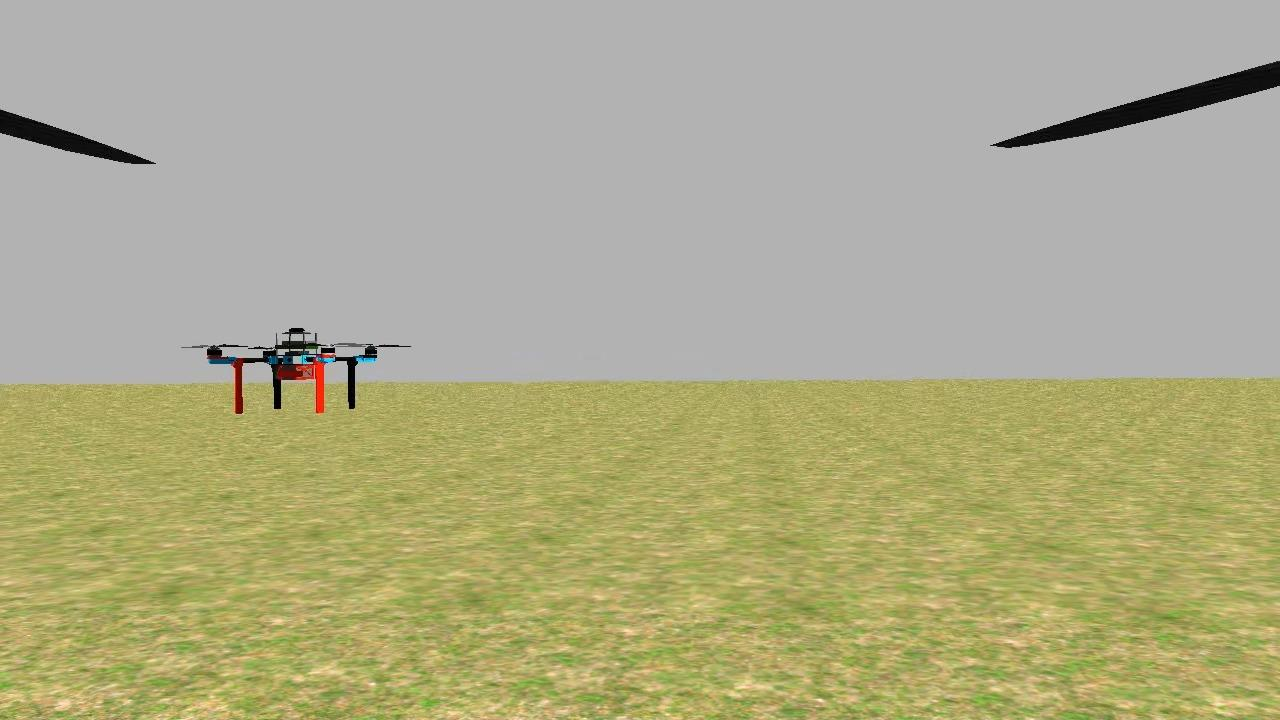UAV: (201, 308, 391, 423)
